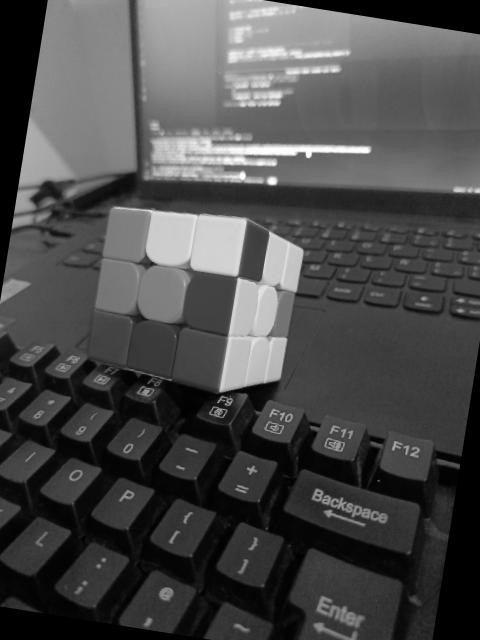rubik: (82, 195, 308, 402)
